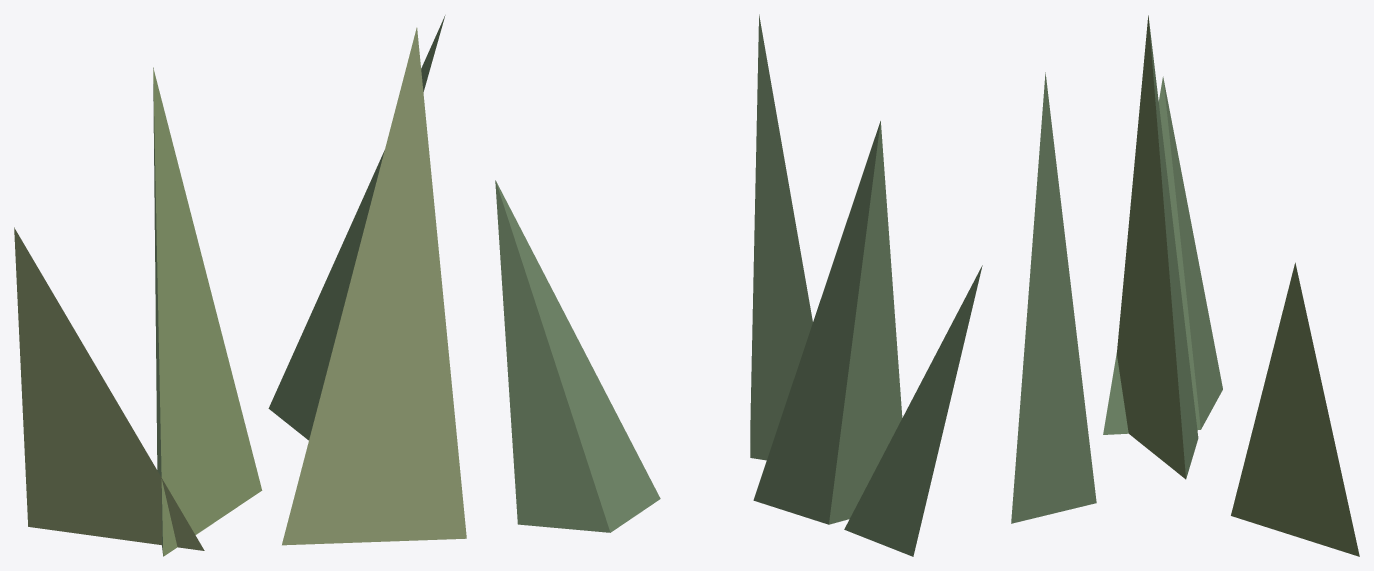
Rendered from grass_tuft_b.fbx.
The picture shows the model from 3 angles, left to right: view 1: azimuth 30°, elevation 25°; view 2: azimuth 150°, elevation 25°; view 3: azimuth 270°, elevation 25°; orthographic projection. The views are drawn at different scales.
Parts seen in each view (by area): view 1: grass_tuft_b; view 2: grass_tuft_b; view 3: grass_tuft_b.
Boxes of the visible parts, x1,y1,x2,y2 form: grass_tuft_b: (14, 15, 466, 556); grass_tuft_b: (495, 14, 982, 556); grass_tuft_b: (1011, 15, 1359, 556).
Bounding box in the file's own units: 0.1735 × 0.165 × 0.1187.
